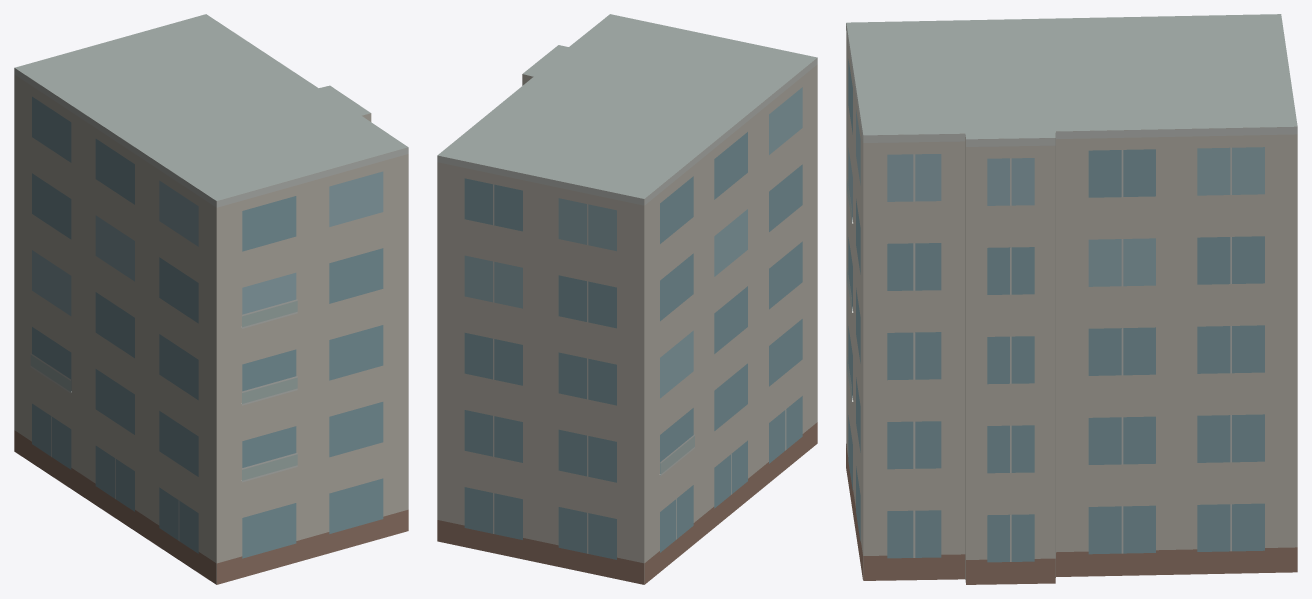
The model's file is survey-upis-32734020.glb.
3 views of the same model, side by side, from view 1: azimuth 30°, elevation 25°; view 2: azimuth 150°, elevation 25°; view 3: azimuth 270°, elevation 25° (orthographic). The views are drawn at different scales.
Visible parts, largest first — view 1: survey-upis-32734020.tmp; view 2: survey-upis-32734020.tmp; view 3: survey-upis-32734020.tmp.
Part boxes in pixels (left/top/right/bottom): survey-upis-32734020.tmp: left=14, top=14, right=408, bottom=584; survey-upis-32734020.tmp: left=437, top=14, right=817, bottom=584; survey-upis-32734020.tmp: left=846, top=14, right=1297, bottom=584.
Size of the model in its own units: 8.51 by 14.1 by 12.96.
